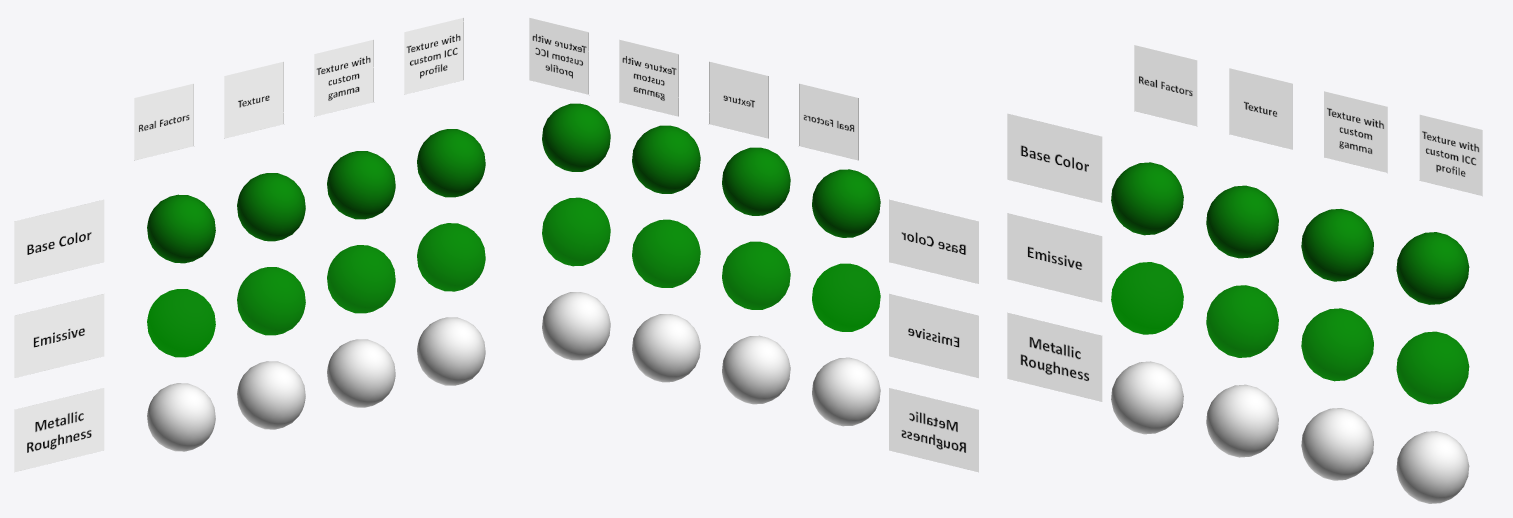
The model's file is TextureEncodingTest.glb.
The picture shows the model from 3 angles, left to right: view 1: azimuth 30°, elevation 25°; view 2: azimuth 150°, elevation 25°; view 3: azimuth 330°, elevation 25°; orthographic projection. The views are drawn at different scales.
Bounding box in the file's own units: 15.5 × 12 × 2.
14 materials, 8 textured.
